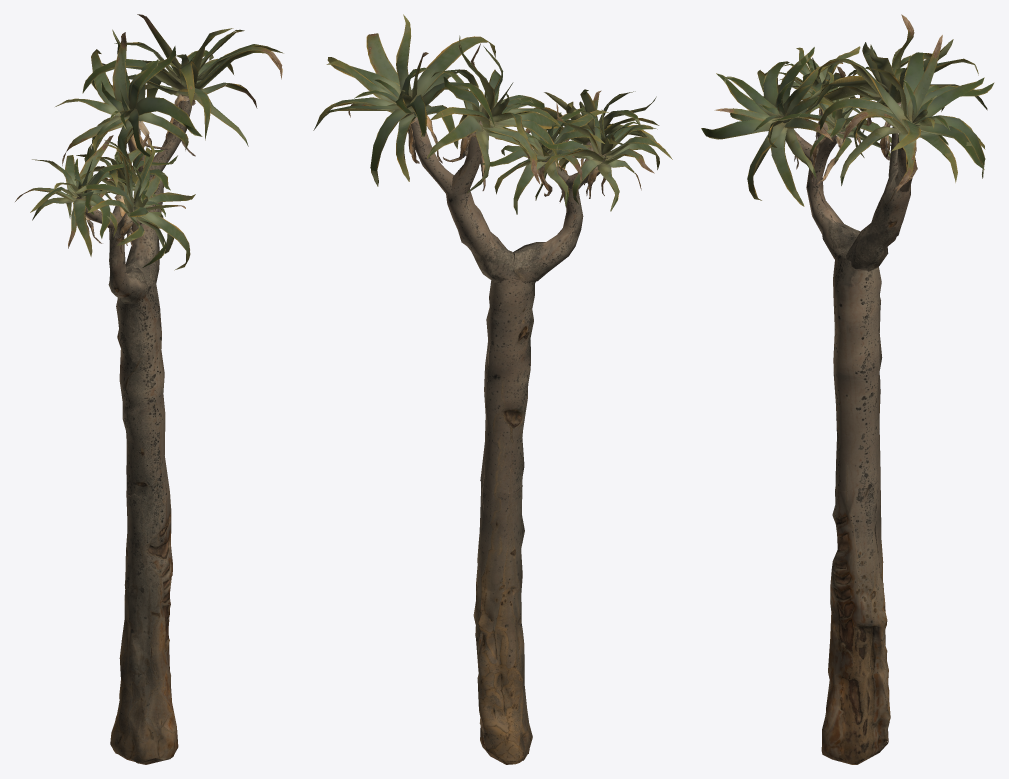
The model's file is quiver_tree_01.glb.
The picture shows the model from 3 angles, left to right: view 1: azimuth 30°, elevation 25°; view 2: azimuth 150°, elevation 25°; view 3: azimuth 270°, elevation 25°; orthographic projection. The views are drawn at different scales.
Visible parts, largest first — view 1: quiver_tree_01; view 2: quiver_tree_01; view 3: quiver_tree_01.
Part boxes in pixels (x1=…): quiver_tree_01: x1=15, y1=14, x2=283, y2=764; quiver_tree_01: x1=313, y1=14, x2=672, y2=764; quiver_tree_01: x1=701, y1=14, x2=994, y2=764.
Size of the model in its own units: 1.18 by 2.71 by 0.9707.
Materials: 2 (2 with a texture image).
